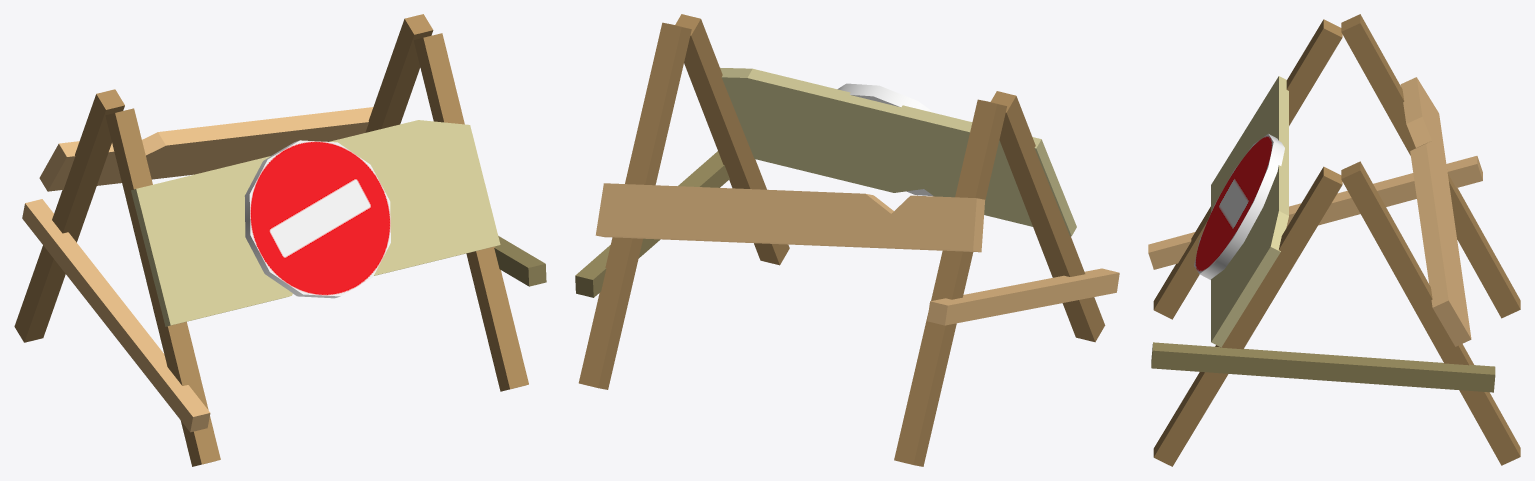
Rendered from barrier.fbx.
3 renders of one model, left to right at view 1: azimuth 30°, elevation 25°; view 2: azimuth 150°, elevation 25°; view 3: azimuth 270°, elevation 25°, orthographic. The views are drawn at different scales.
Parts seen in each view (by area): view 1: barrier; view 2: barrier; view 3: barrier.
Part boxes in pixels (x1,y1,x2,y2): barrier: (14,14,546,466); barrier: (575,14,1119,466); barrier: (1148,14,1520,466).
Size of the model in its own units: 228 by 183 by 209.
